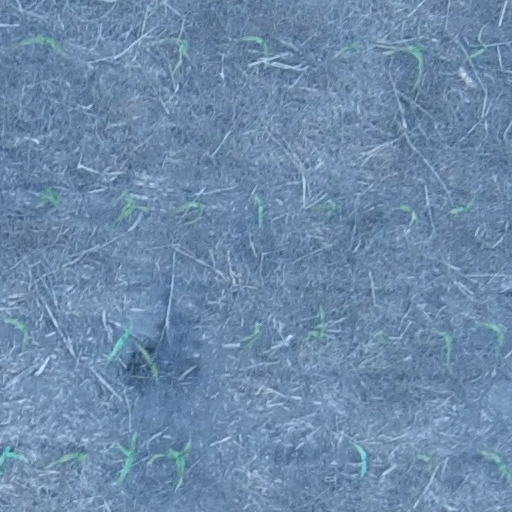planta: (388, 44, 425, 88), (165, 436, 192, 488), (116, 432, 138, 483), (114, 192, 144, 225), (428, 329, 454, 364), (239, 34, 271, 61), (137, 345, 161, 380), (16, 35, 63, 52), (173, 201, 203, 226), (109, 329, 133, 360), (8, 316, 29, 349), (39, 185, 62, 207), (482, 321, 505, 343), (309, 312, 328, 338), (240, 328, 261, 350), (56, 451, 87, 464), (397, 204, 418, 223)
